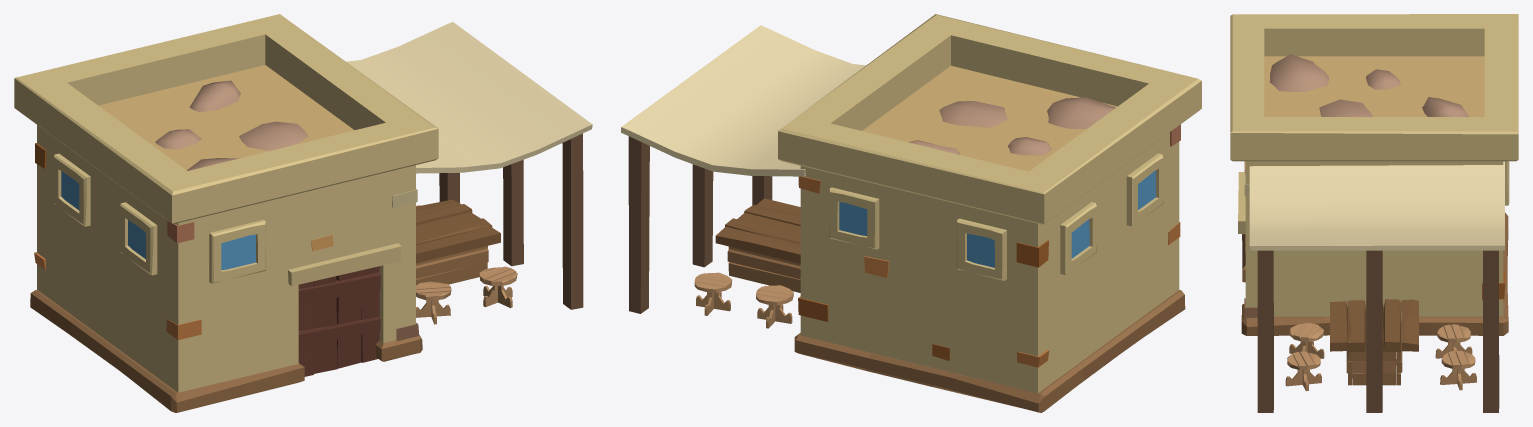
The model's file is House_C.fbx.
The picture shows the model from 3 angles, left to right: view 1: azimuth 30°, elevation 25°; view 2: azimuth 150°, elevation 25°; view 3: azimuth 270°, elevation 25°; orthographic projection. The views are drawn at different scales.
Visible parts, largest first — view 1: House_C; view 2: House_C; view 3: House_C.
Boxes of the visible parts, x1,y1,x2,y2 form: House_C: [14, 14, 592, 412]; House_C: [621, 14, 1201, 412]; House_C: [1230, 14, 1518, 412].
Bounding box in the file's own units: 779 × 396 × 494.
